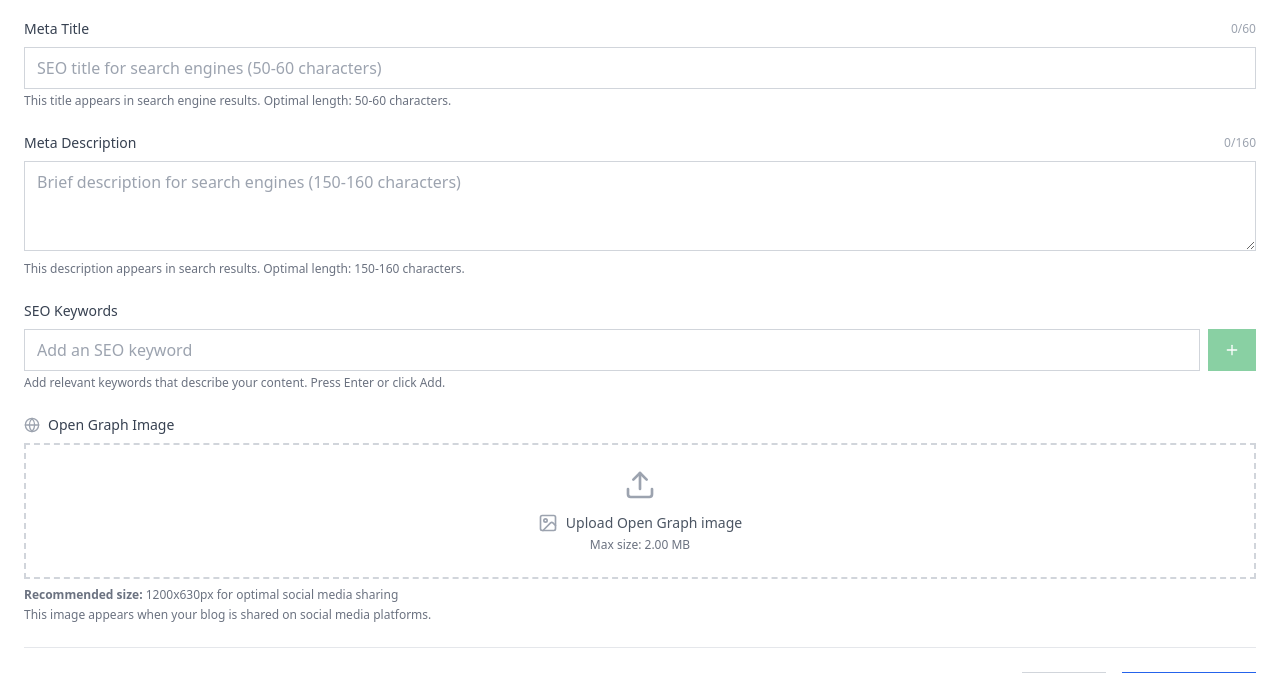
Scenario: BlogForm Metadata Management Tests › SEO Keywords Management › adds keyword on Enter key press
(page scrolled)
Type "react" into the field with placeholder "Add an SEO keyword".
click(612, 350); type("react")  # box x1=24 y1=329 x2=1200 y2=371
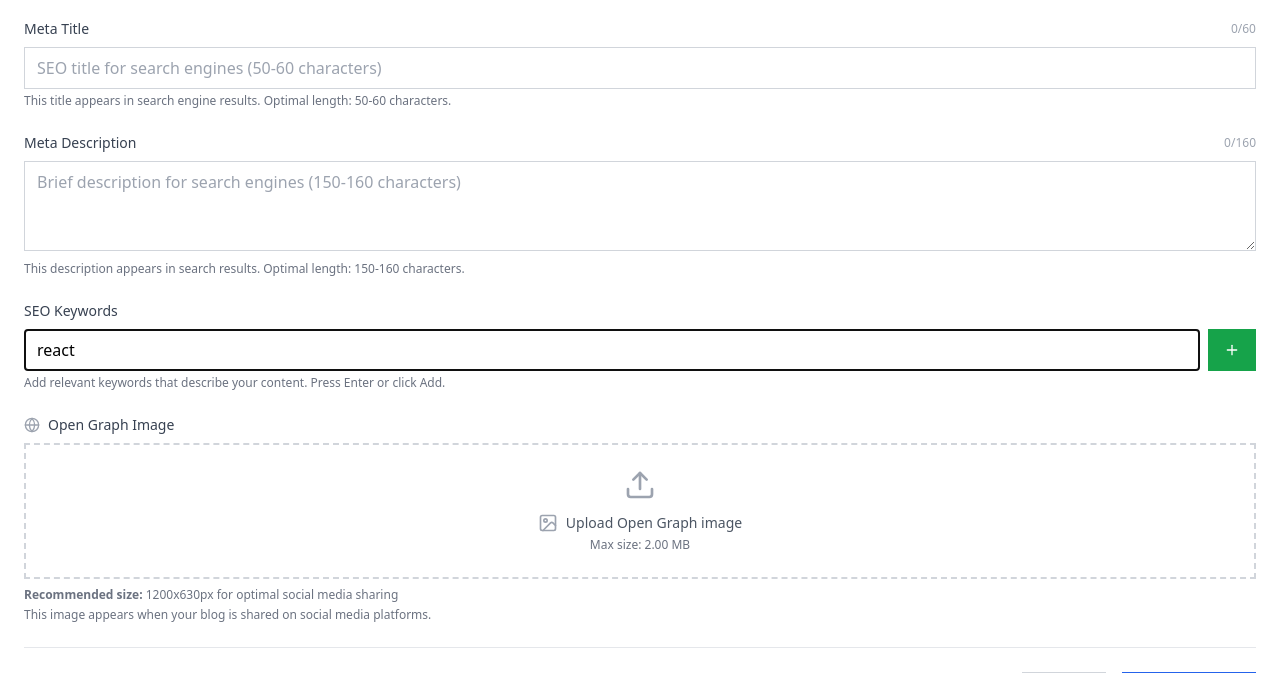
Press Enter
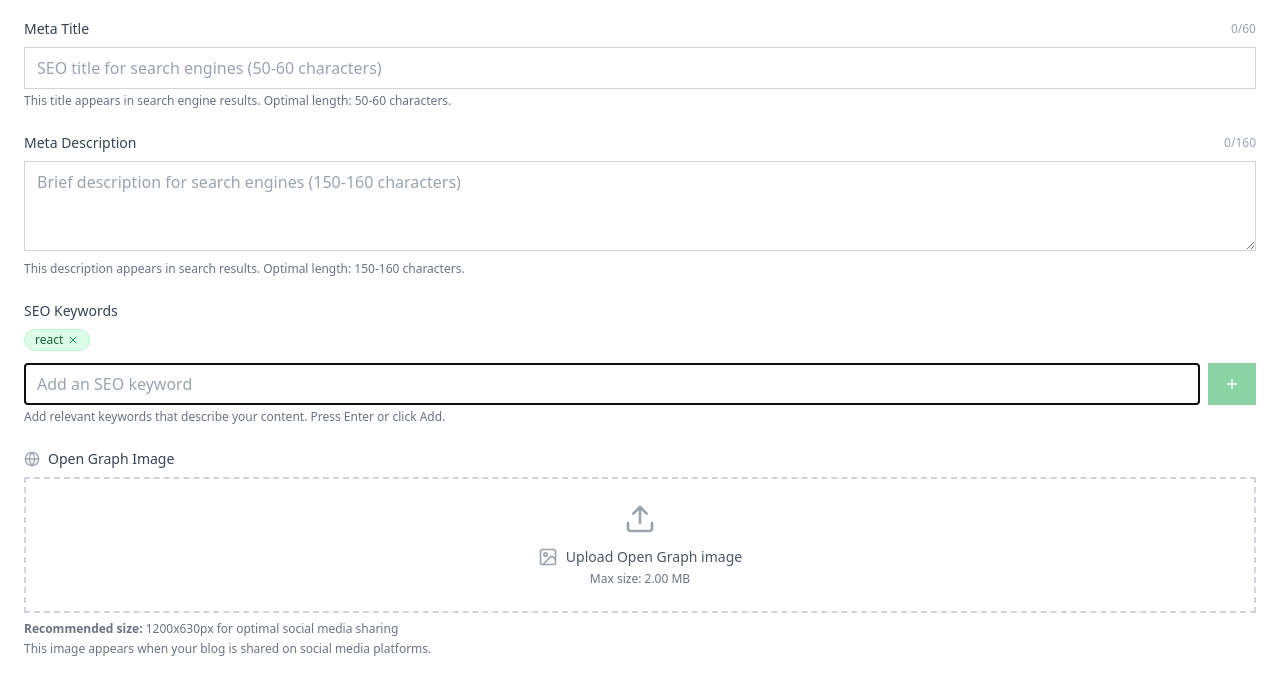
Result: the text "react" is shown at x1=24 y1=329 x2=90 y2=351
Result: the field with placeholder "Add an SEO keyword" is empty at x1=24 y1=363 x2=1200 y2=405
